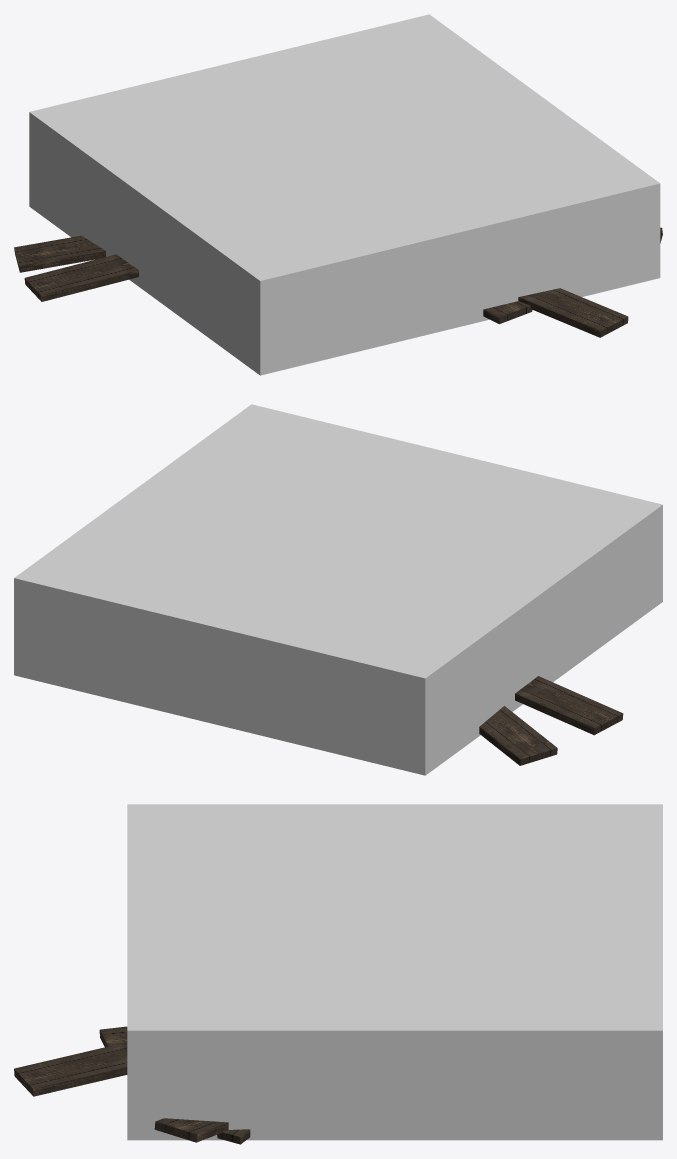
Rendered from crate_broken.glb.
3 views of the same model, one above another, from view 1: azimuth 30°, elevation 25°; view 2: azimuth 150°, elevation 25°; view 3: azimuth 270°, elevation 25° (orthographic). The views are drawn at different scales.
Visible parts, largest first — view 1: col_click, crate_broken; view 2: col_click, crate_broken; view 3: col_click, crate_broken.
Part boxes in pixels (x1,y1,x2,y2): col_click: [29, 14, 660, 375]; crate_broken: [14, 227, 662, 337]; col_click: [14, 404, 662, 775]; crate_broken: [479, 676, 623, 765]; col_click: [127, 804, 662, 1140]; crate_broken: [14, 1026, 250, 1144].
Size of the model in its own units: 2.03 by 0.3783 by 1.88.
3 materials, 3 textured.
